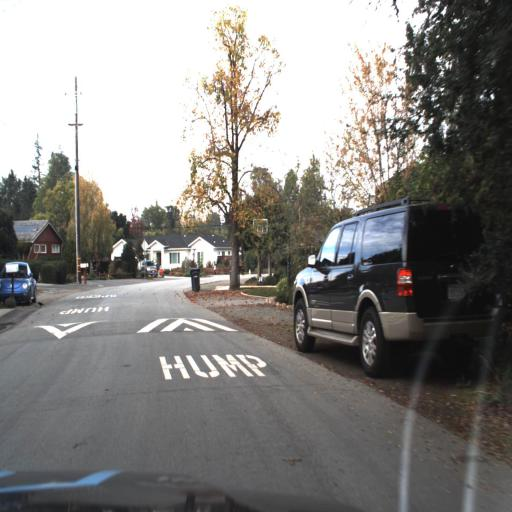car: (281, 183, 511, 378), (0, 259, 38, 307), (134, 253, 159, 283)
